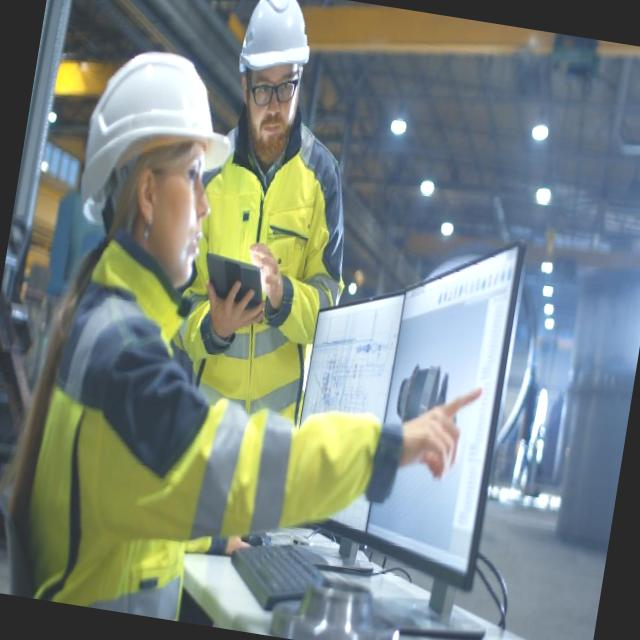helmet: (68, 37, 249, 238), (230, 0, 326, 85)
vest: (12, 254, 203, 616), (169, 112, 344, 440)
